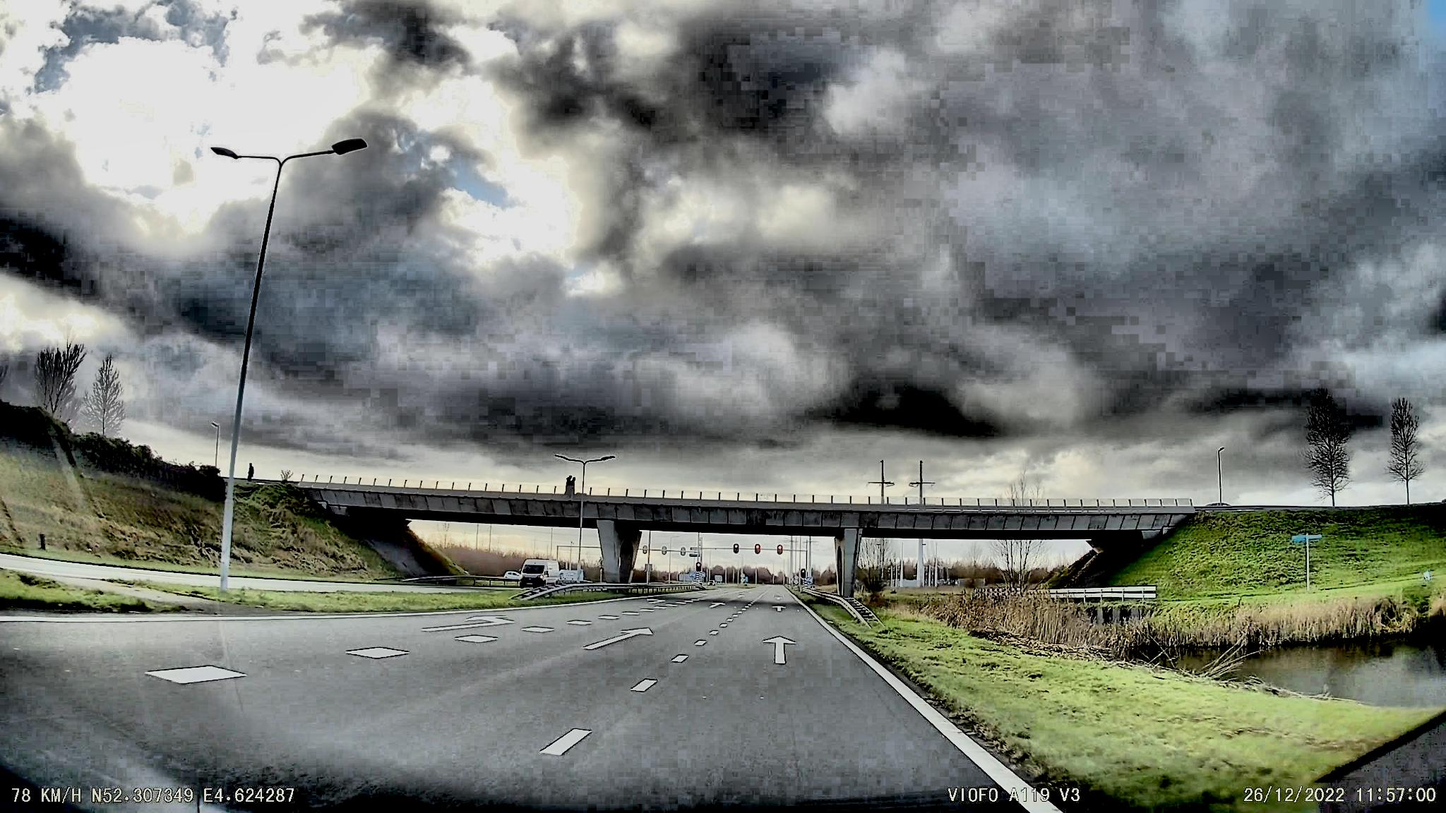Roads: (0, 587, 1078, 813)
